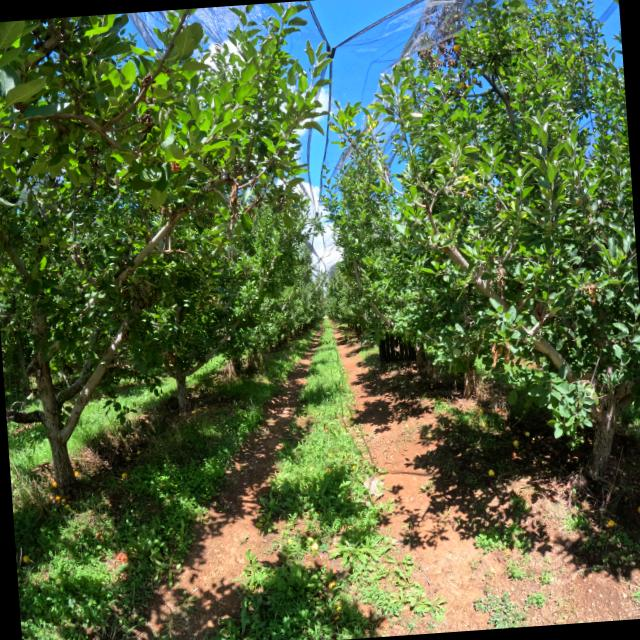-FireBlight-: (490, 340, 511, 368)
